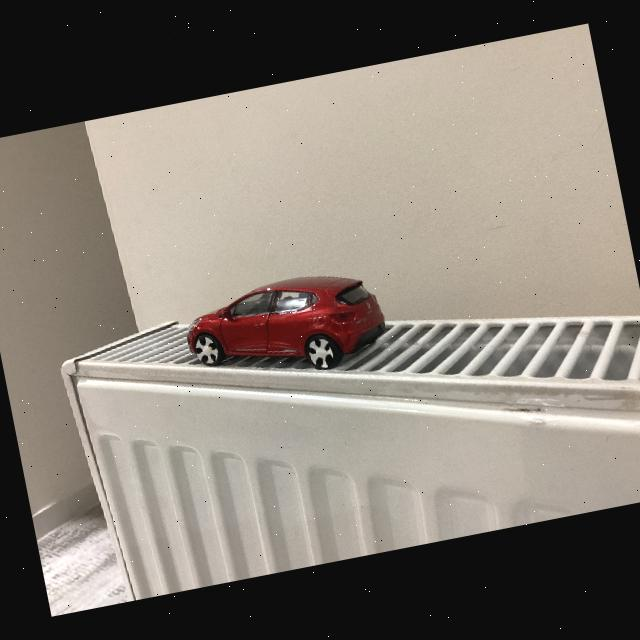Yanlis_Jant: (307, 335, 338, 371), (193, 334, 220, 366)
